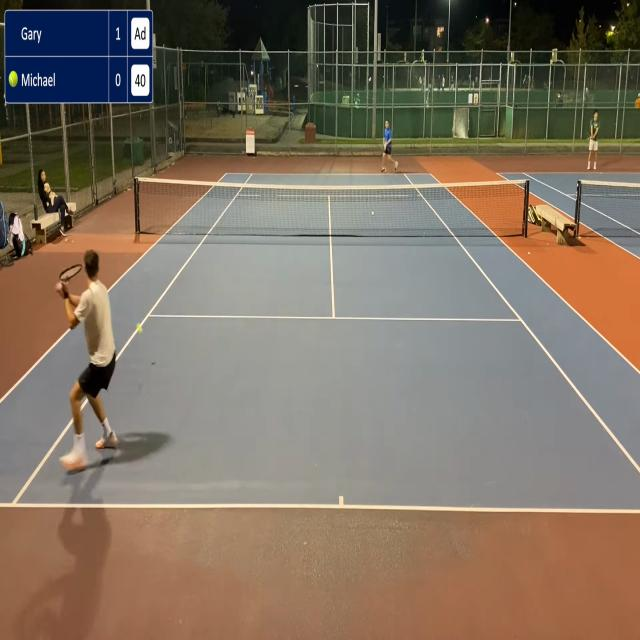ball: (6, 68, 20, 88), (136, 321, 143, 335), (370, 212, 375, 216)
